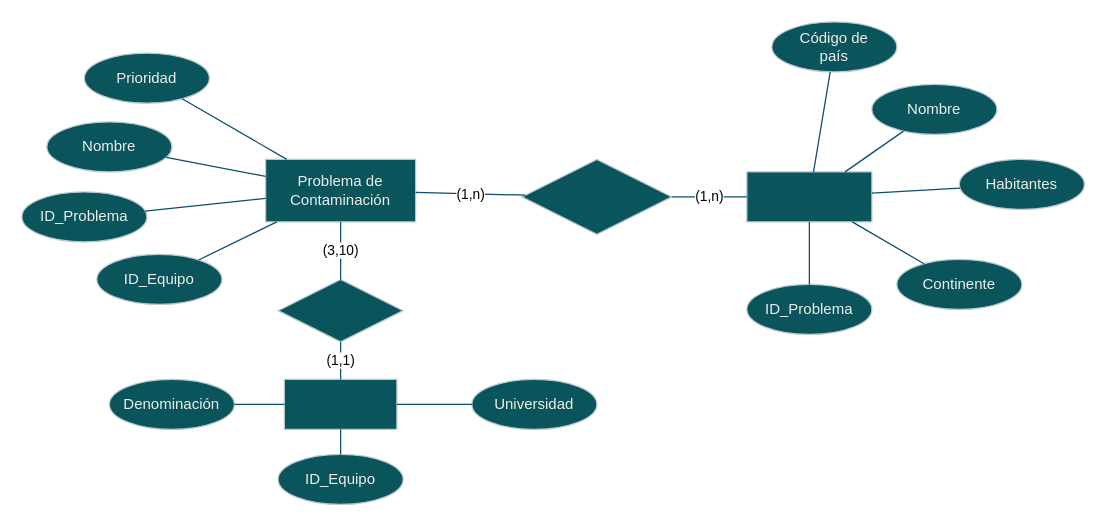
Some shapes in this 1106 by 526 pixel diagram are drawn without their labels. Here are the shapes that lost their labels. From the top down, the centre of each, then its label:
At point 596,196: "Es identificado".
At point 809,196: "Pais".
At point 340,310: "Investiga".
At point 340,403: "Equipo".
